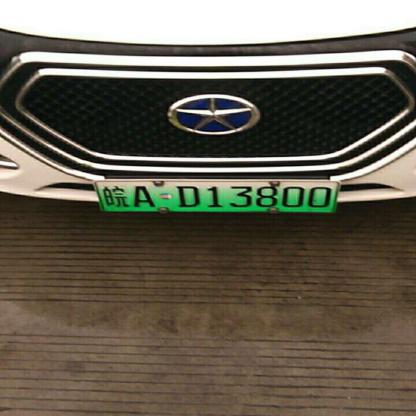lp: (94, 180, 338, 213)
